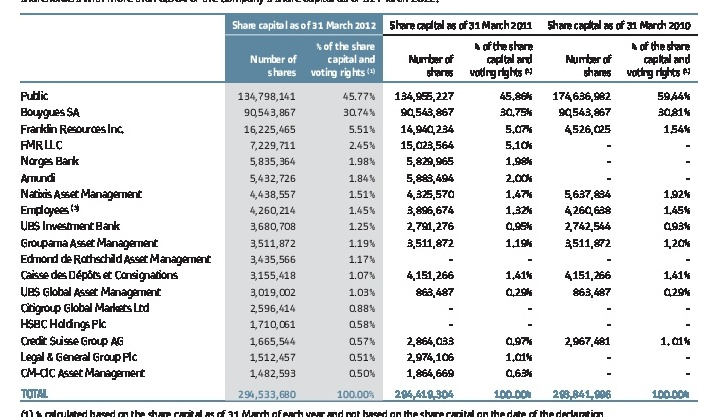table: (0, 0, 710, 417)
